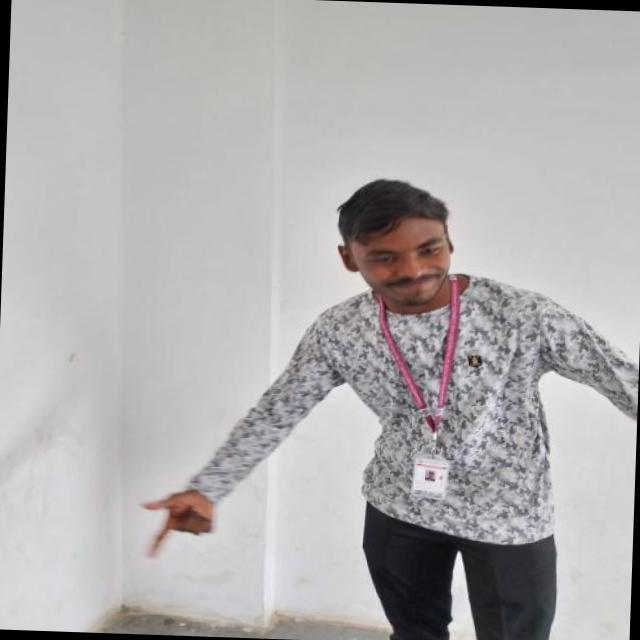id_card: (369, 276, 462, 497)
